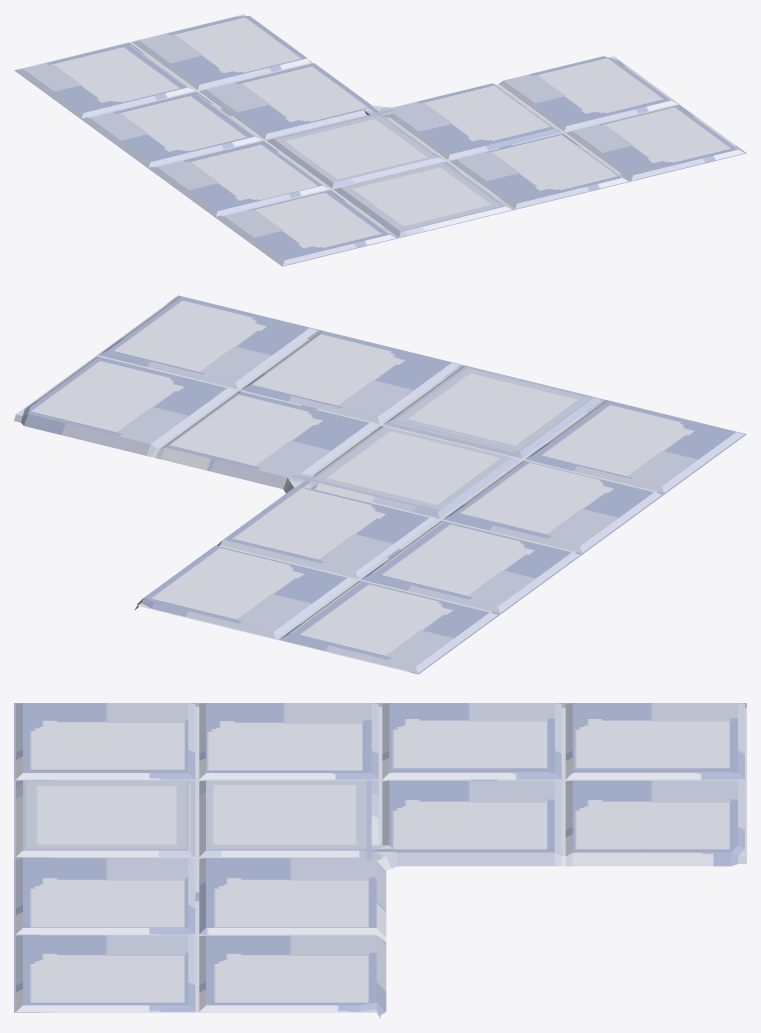
File: Tile_Floor_CornerCap.fbx
The picture shows the model from 3 angles, top to bottom: view 1: azimuth 30°, elevation 25°; view 2: azimuth 150°, elevation 25°; view 3: azimuth 270°, elevation 25°; orthographic projection. The views are drawn at different scales.
Visible parts, largest first — view 1: Tile_Floor_Corner_In_TopCap; view 2: Tile_Floor_Corner_In_TopCap; view 3: Tile_Floor_Corner_In_TopCap.
Boxes of the visible parts, x1,y1,x2,y2 form: Tile_Floor_Corner_In_TopCap: (14, 14, 746, 266); Tile_Floor_Corner_In_TopCap: (14, 295, 746, 674); Tile_Floor_Corner_In_TopCap: (14, 703, 746, 1018).
Bounding box in the file's own units: 400 × 5.9 × 400.
